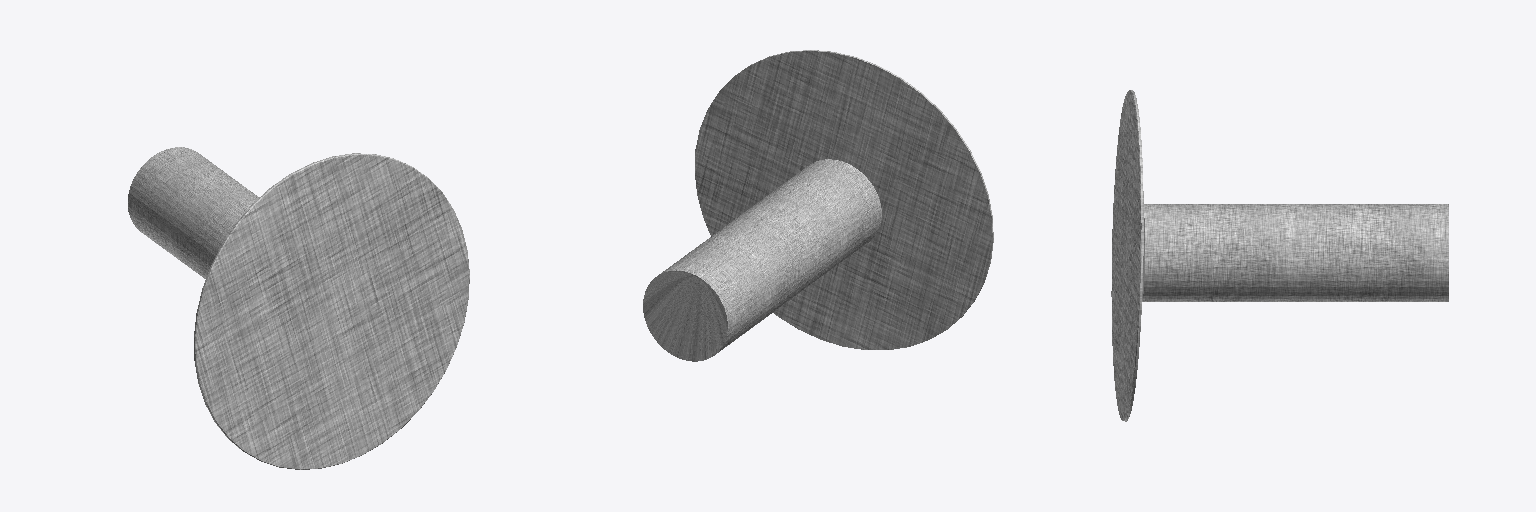
3 renders of one model, left to right at view 1: azimuth 30°, elevation 25°; view 2: azimuth 150°, elevation 25°; view 3: azimuth 270°, elevation 25°, orthographic.
Bounding box in the file's own units: 0.0211 × 0.0211 × 0.0215.
Materials: 1 (1 with a texture image).